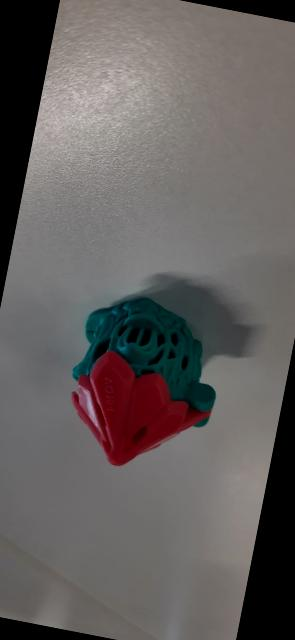House: (44, 275, 238, 493)
